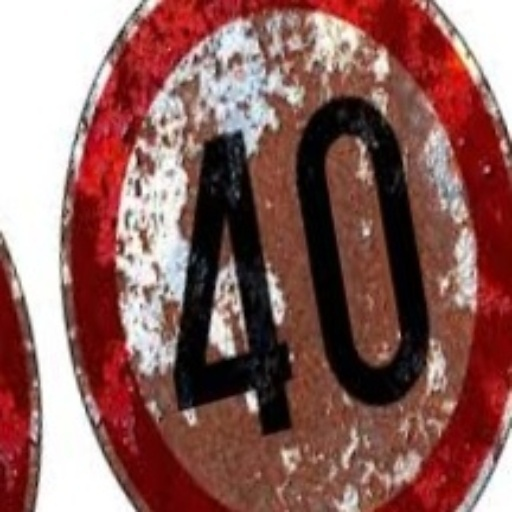Speed limit: (61, 0, 511, 511)
